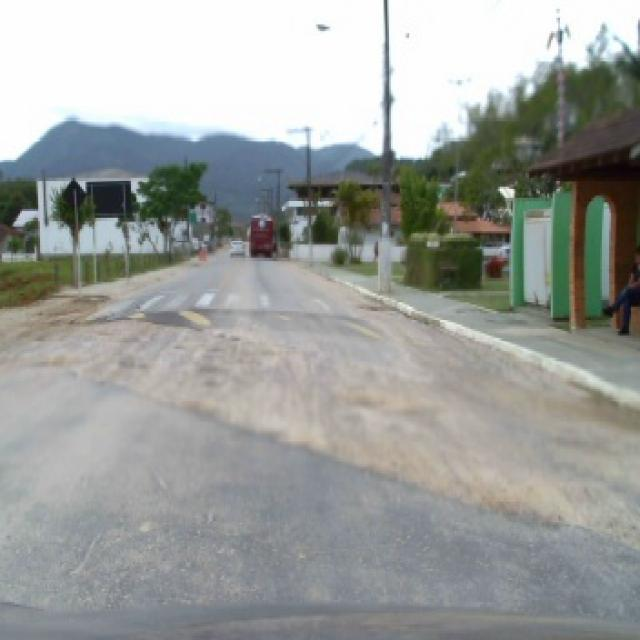Poth-hole: (105, 308, 388, 336)
